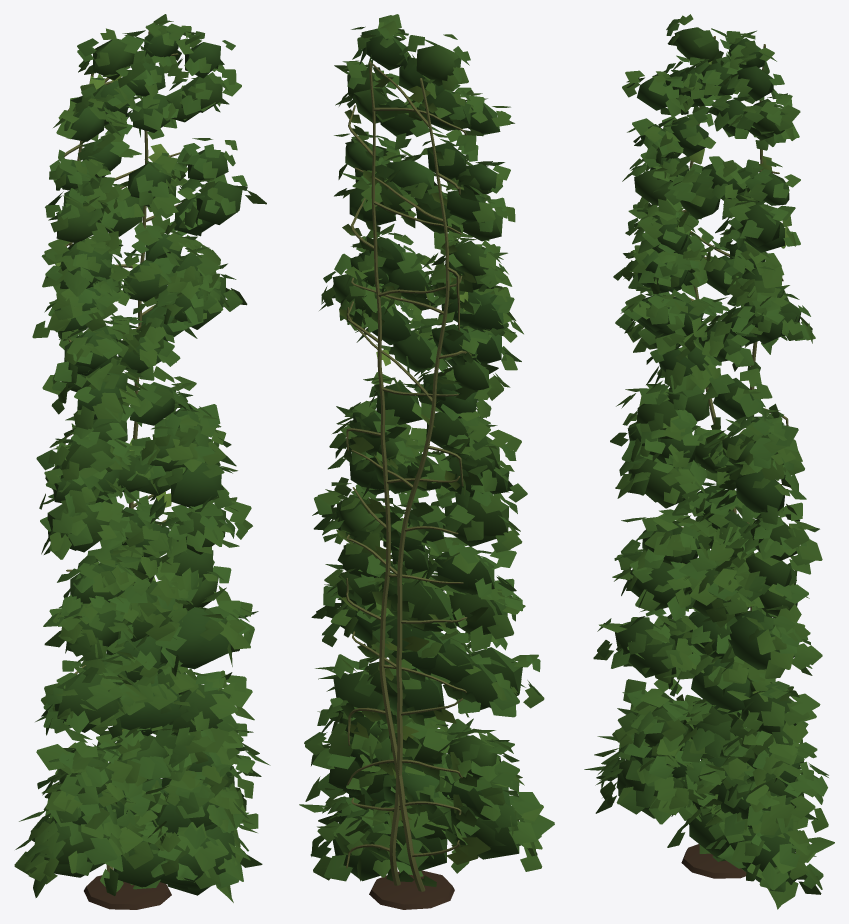
The model's file is climber_ivy_narrow.glb.
3 renders of one model, left to right at view 1: azimuth 30°, elevation 25°; view 2: azimuth 150°, elevation 25°; view 3: azimuth 330°, elevation 25°, orthographic. The views are drawn at different scales.
Parts seen in each view (by area): view 1: Sammel Pflanze, Sammel Blatt, Sammel Putz; view 2: Sammel Pflanze, Sammel Blatt, Sammel Putz; view 3: Sammel Pflanze, Sammel Blatt, Sammel Putz.
Part boxes in pixels (x1,y1,x2,y2): Sammel Pflanze: [14, 14, 270, 902]; Sammel Blatt: [44, 25, 242, 895]; Sammel Putz: [64, 31, 183, 909]; Sammel Pflanze: [299, 14, 554, 887]; Sammel Blatt: [328, 28, 522, 881]; Sammel Putz: [346, 61, 470, 909]; Sammel Pflanze: [584, 14, 834, 909]; Sammel Blatt: [615, 27, 804, 888]; Sammel Putz: [673, 36, 788, 878].
Size of the model in its own units: 1.09 by 3.76 by 0.4676.
